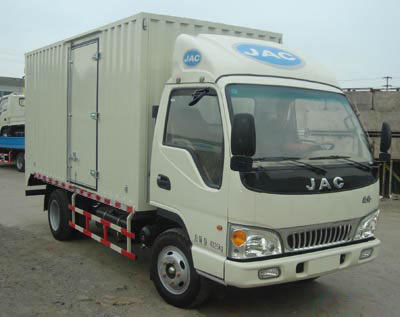smalltruck: (11, 10, 390, 304)
